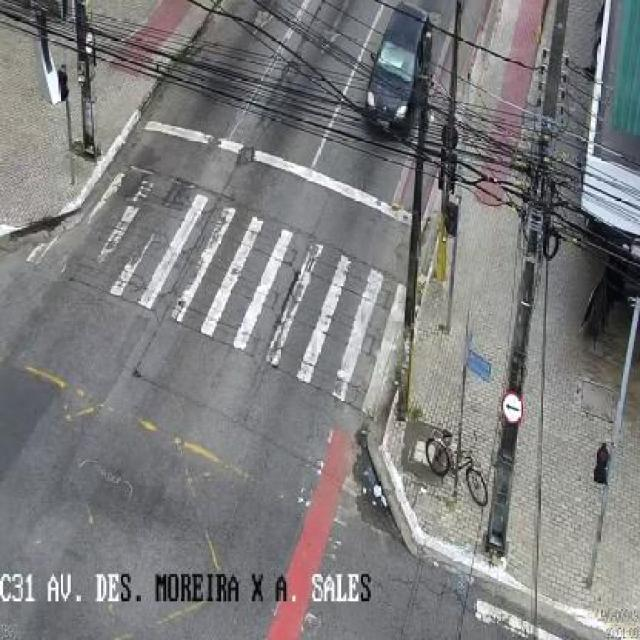Car: (365, 2, 434, 134)
Cycle: (424, 428, 491, 508)
